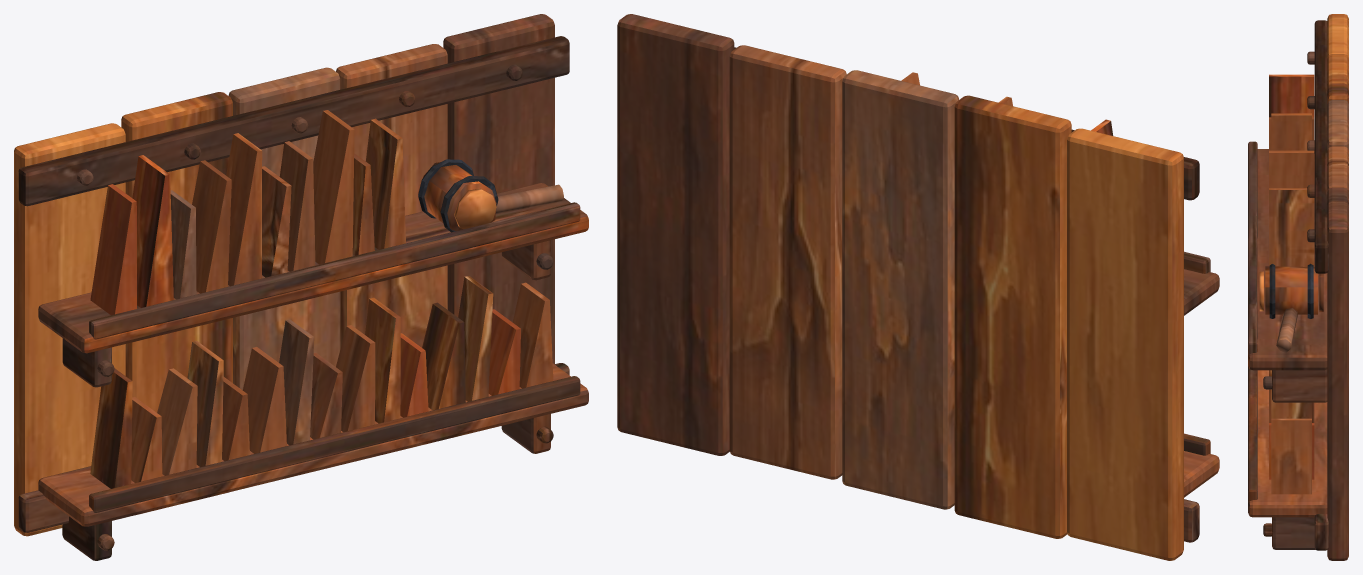
File: mp_wedge_rack.glb
3 renders of one model, left to right at view 1: azimuth 30°, elevation 25°; view 2: azimuth 150°, elevation 25°; view 3: azimuth 270°, elevation 25°, orthographic. The views are drawn at different scales.
Visible parts, largest first — view 1: model; view 2: model; view 3: model.
Boxes of the visible parts, bbox=[...] form: model: bbox=[14, 14, 588, 560]; model: bbox=[617, 14, 1219, 560]; model: bbox=[1248, 14, 1348, 560].
Bounding box in the file's own units: 1.12 × 0.7821 × 0.211.
Materials: 14 (14 with a texture image).
